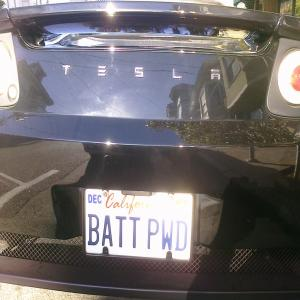Vehicle-registration-plate: (77, 187, 202, 263)
